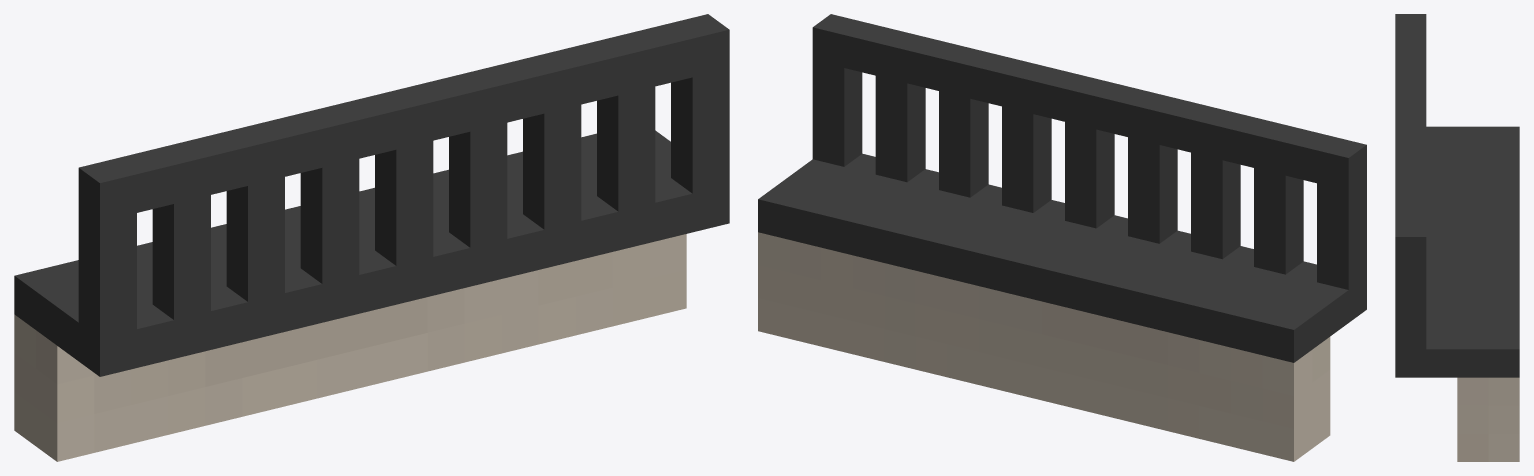
File: palazzo4.glb
3 views of the same model, side by side, from view 1: azimuth 30°, elevation 25°; view 2: azimuth 150°, elevation 25°; view 3: azimuth 270°, elevation 25° (orthographic). The views are drawn at different scales.
Visible parts, largest first — view 1: Ringhiera.Marcapiano.Aperta; view 2: Ringhiera.Marcapiano.Aperta; view 3: Ringhiera.Marcapiano.Aperta.
Part boxes in pixels (x1=…): Ringhiera.Marcapiano.Aperta: x1=14, y1=14, x2=729, y2=461; Ringhiera.Marcapiano.Aperta: x1=758, y1=14, x2=1366, y2=461; Ringhiera.Marcapiano.Aperta: x1=1395, y1=14, x2=1519, y2=461.
Bounding box in the file's own units: 17 × 8 × 4.
2 materials, 2 textured.
